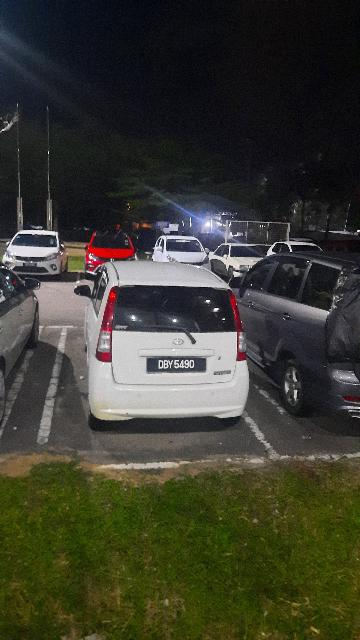License_Plate: (146, 354, 209, 375)
car: (76, 259, 252, 427)
